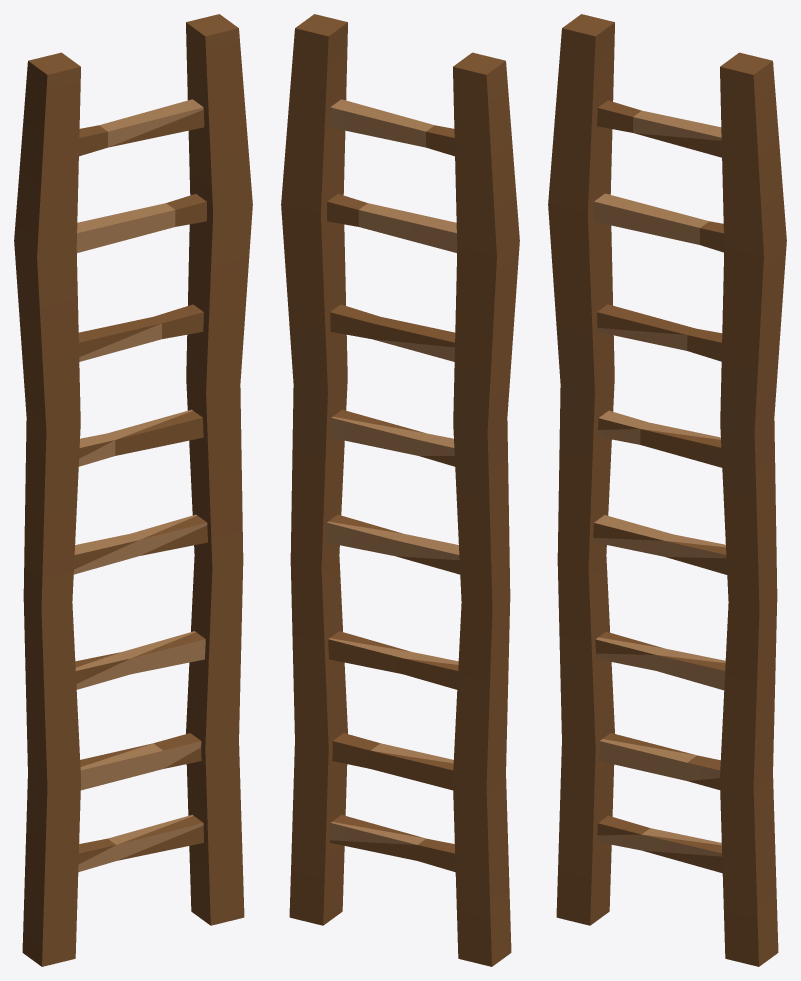
The model's file is LPSWP_Ladder01.fbx.
3 renders of one model, left to right at view 1: azimuth 30°, elevation 25°; view 2: azimuth 150°, elevation 25°; view 3: azimuth 330°, elevation 25°, orthographic.
Visible parts, largest first — view 1: LPSWP_Ladder01; view 2: LPSWP_Ladder01; view 3: LPSWP_Ladder01.
Part boxes in pixels (box(x1,y1,x2,y2)): LPSWP_Ladder01: box(14, 14, 252, 966); LPSWP_Ladder01: box(281, 14, 519, 966); LPSWP_Ladder01: box(548, 14, 786, 966).
Bounding box in the file's own units: 0.7892 × 3.11 × 0.1452.
